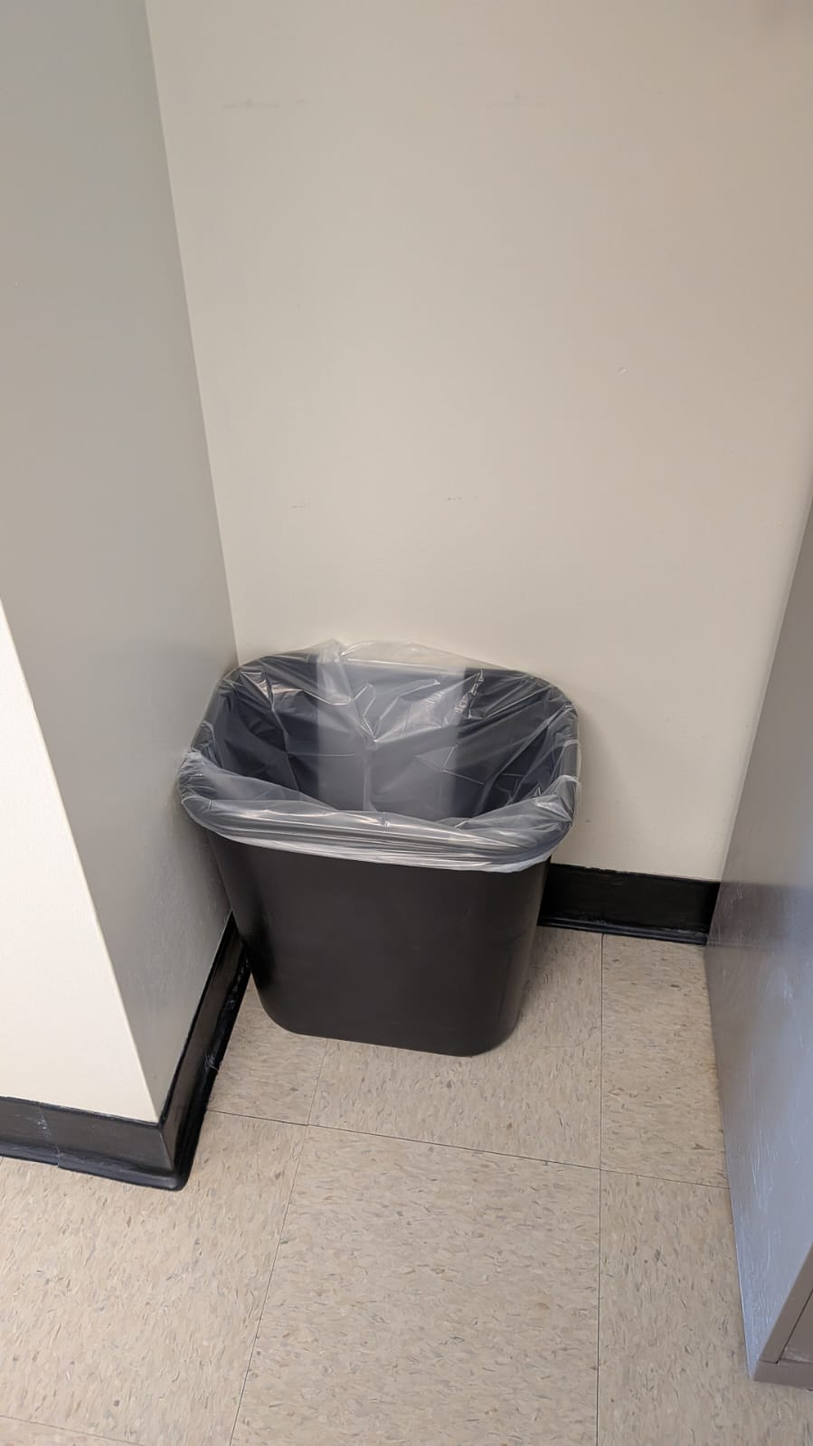trashcan: (173, 648, 582, 1056)
